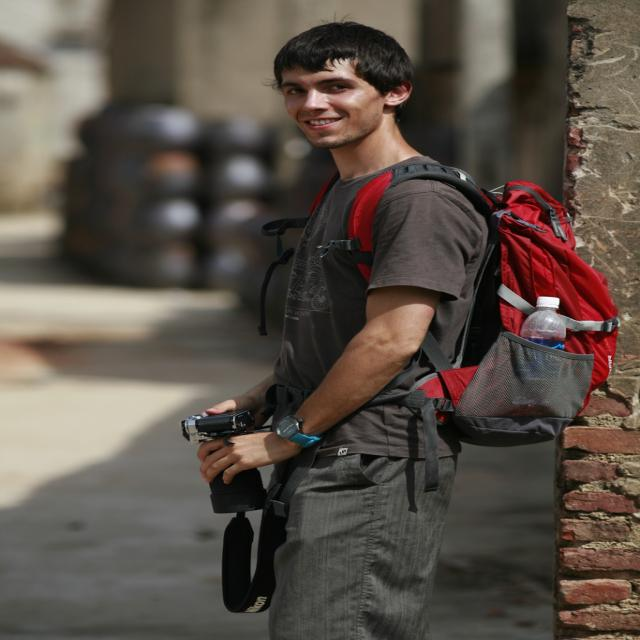backpack: (327, 158, 617, 443)
